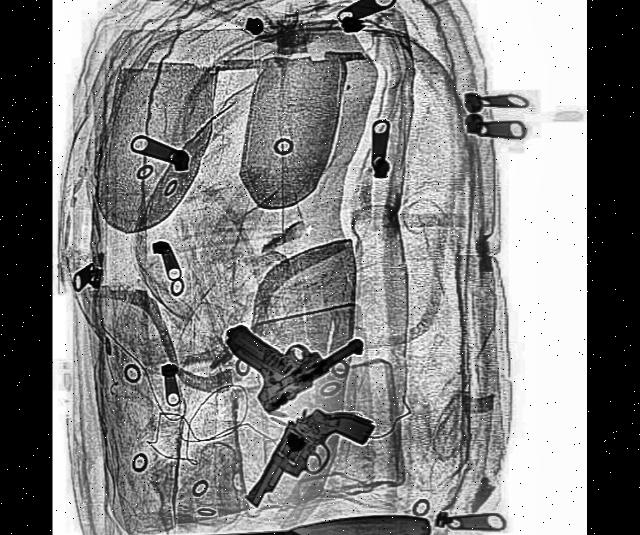Gun: (226, 259, 366, 422), (248, 369, 377, 535)
Knife: (137, 510, 433, 535)
